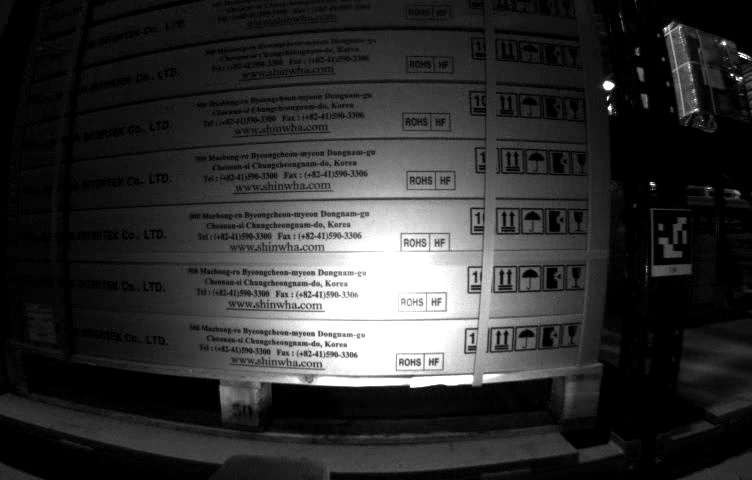True Barcode: (26, 304, 56, 346)
